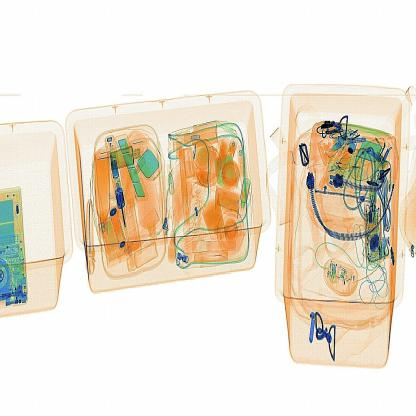wrench: (82, 200, 97, 286)
